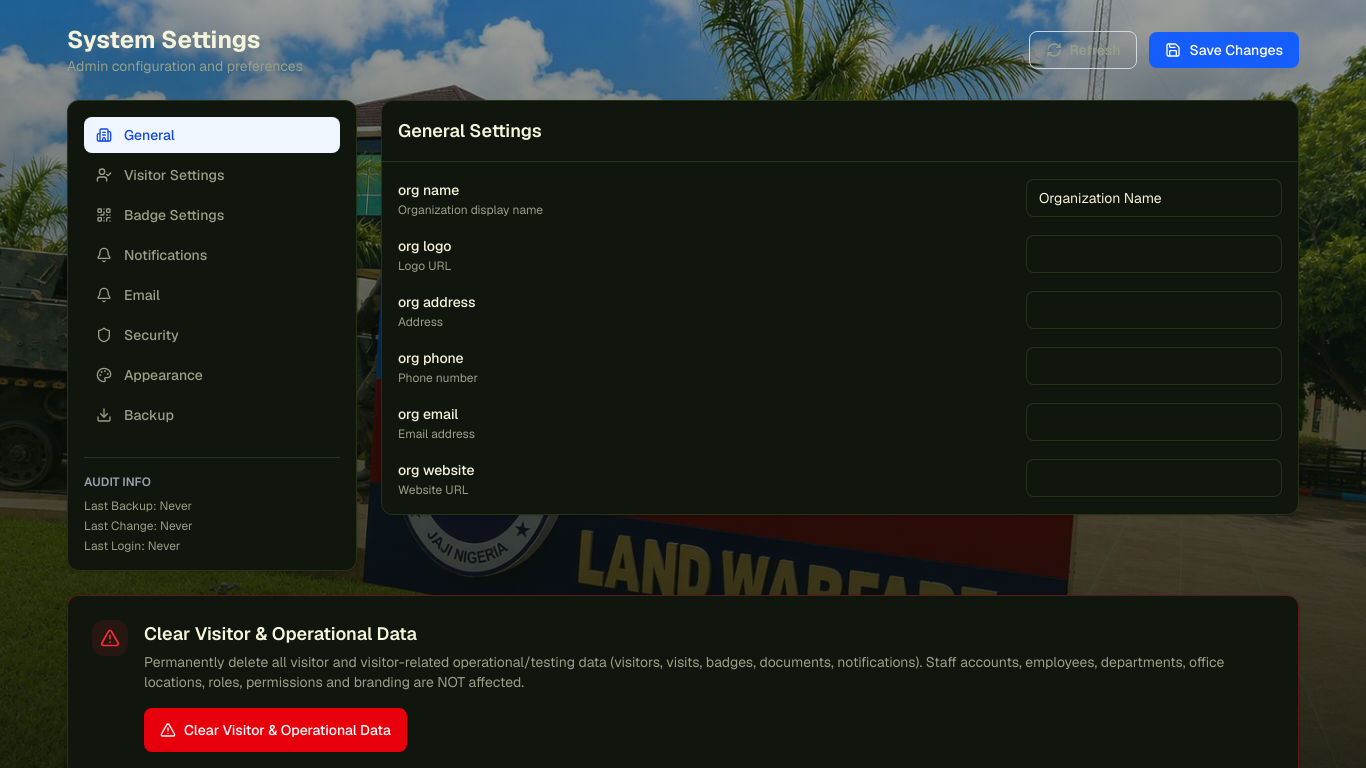
Settings page - Clear Visitor Data button › opens confirmation modal when button is clicked
Click the button "Clear Visitor & Operational Data" at (275, 730), box [144, 708, 407, 752]
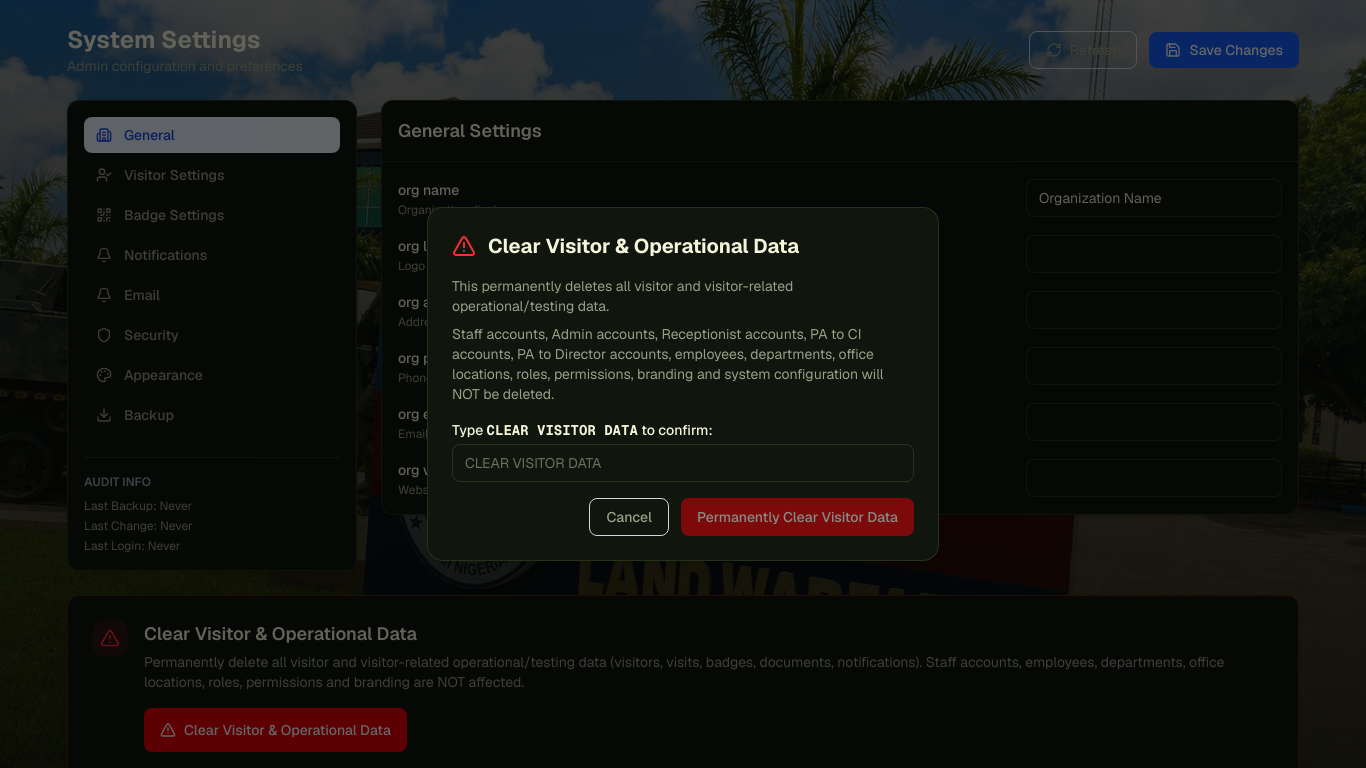
Expected: the text "Type CLEAR VISITOR DATA to confirm:" is shown, [452, 421, 713, 439]
Expected: the text "CLEAR VISITOR DATA" is shown, [487, 421, 638, 439]
